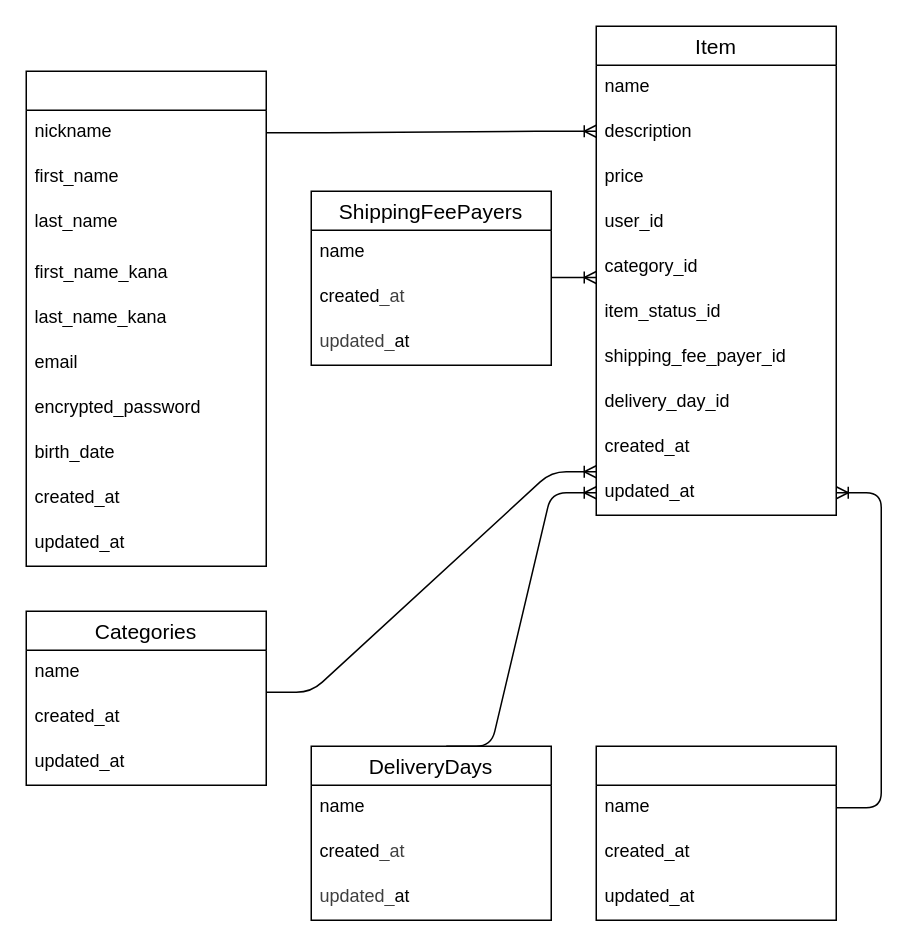
Some shapes in this 920 by 951 pixel diagram are drawn without their labels. Each missing label, with the box of its shape:
ItemStatuses: (595, 745, 836, 920)
User: (25, 70, 266, 566)
